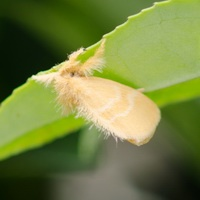insect: (31, 49, 159, 144)
